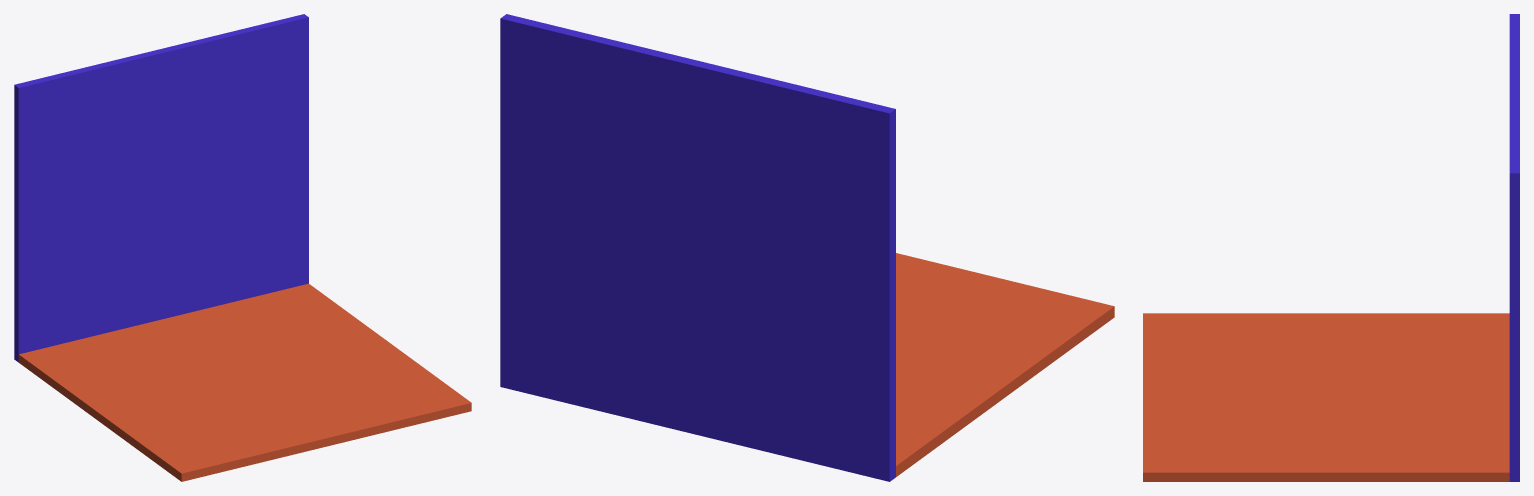
The model's file is RoomPiece.fbx.
The picture shows the model from 3 angles, left to right: view 1: azimuth 30°, elevation 25°; view 2: azimuth 150°, elevation 25°; view 3: azimuth 270°, elevation 25°; orthographic projection. The views are drawn at different scales.
Parts seen in each view (by area): view 1: RoomPiece; view 2: RoomPiece; view 3: RoomPiece.
Boxes of the visible parts, x1=… form: RoomPiece: x1=14, y1=14, x2=471, y2=481; RoomPiece: x1=500, y1=14, x2=1114, y2=481; RoomPiece: x1=1143, y1=14, x2=1519, y2=481.
Bounding box in the file's own units: 4.62 × 4.18 × 4.62.
